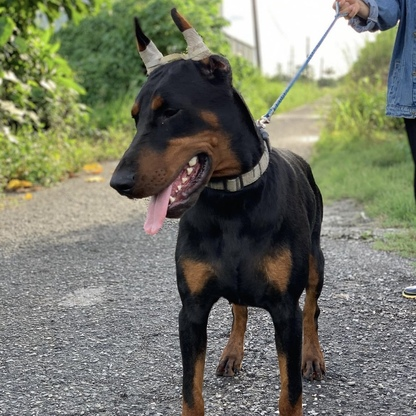doberman: (111, 12, 338, 413)
